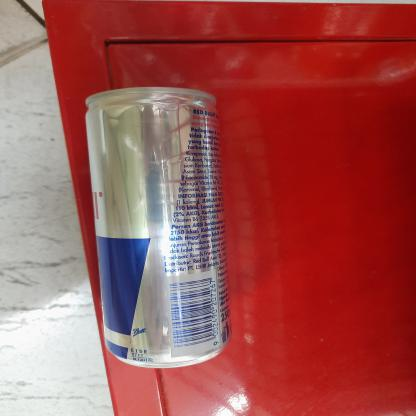can: (77, 82, 238, 370)
